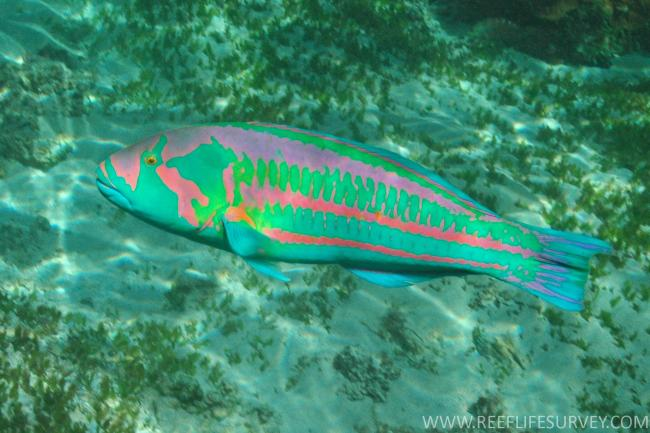fish: (96, 121, 612, 312)
